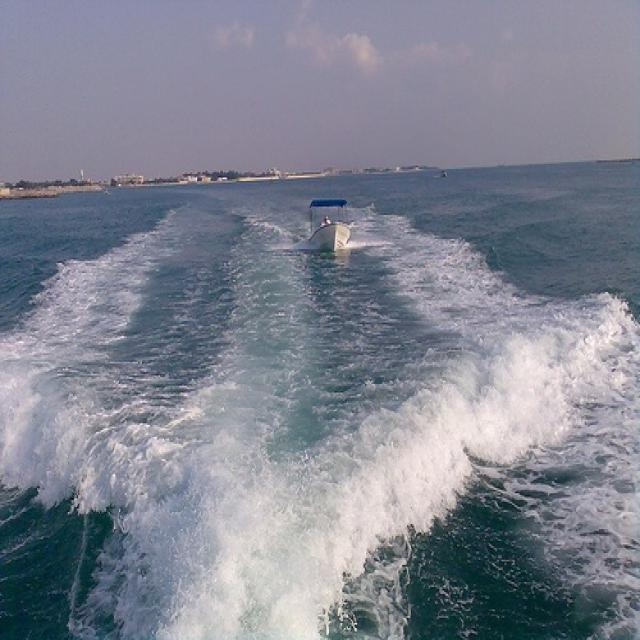boat: (310, 199, 355, 257)
